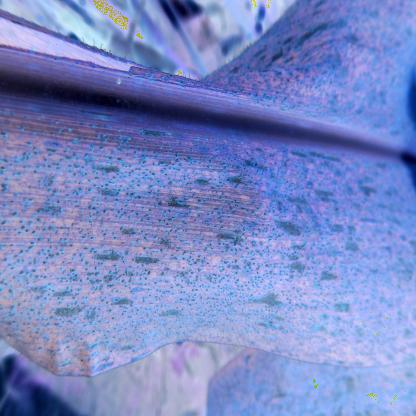Corn rust leaf: (0, 10, 416, 377)
